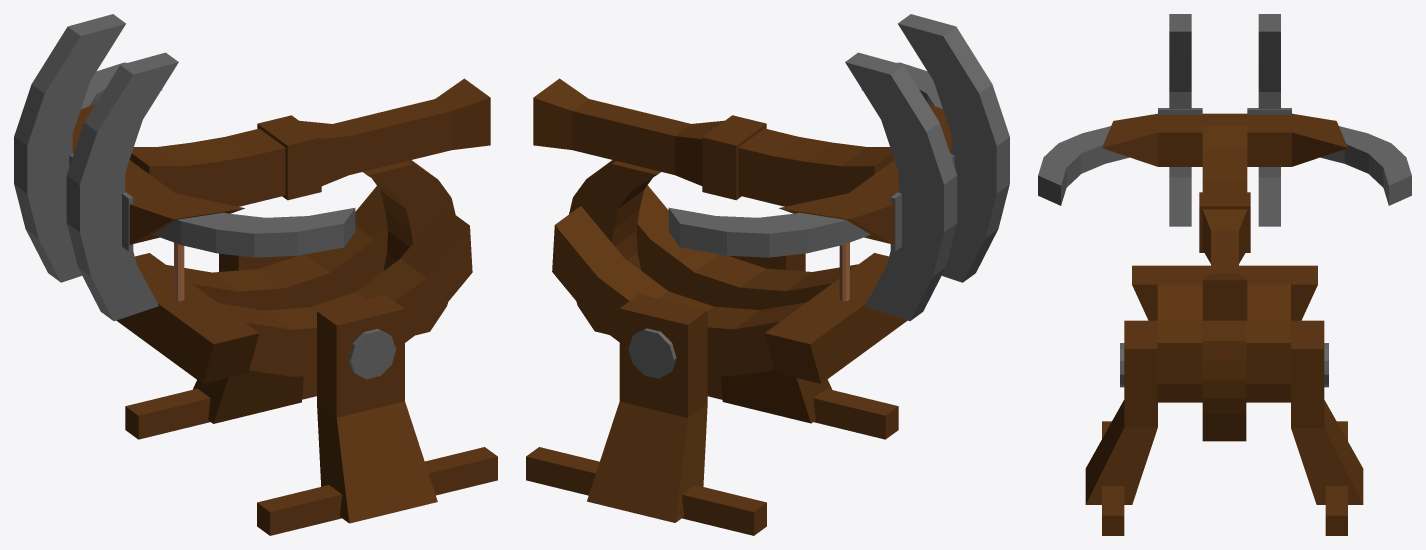
The model's file is Ballista.fbx.
The picture shows the model from 3 angles, left to right: view 1: azimuth 30°, elevation 25°; view 2: azimuth 150°, elevation 25°; view 3: azimuth 270°, elevation 25°; orthographic projection. The views are drawn at different scales.
Visible parts, largest first — view 1: Full; view 2: Full; view 3: Full.
Part boxes in pixels (x1,y1,x2,y2): Full: (14, 14, 497, 535); Full: (526, 14, 1009, 535); Full: (1038, 14, 1411, 535).
Bounding box in the file's own units: 9.45 × 9.59 × 8.37.
